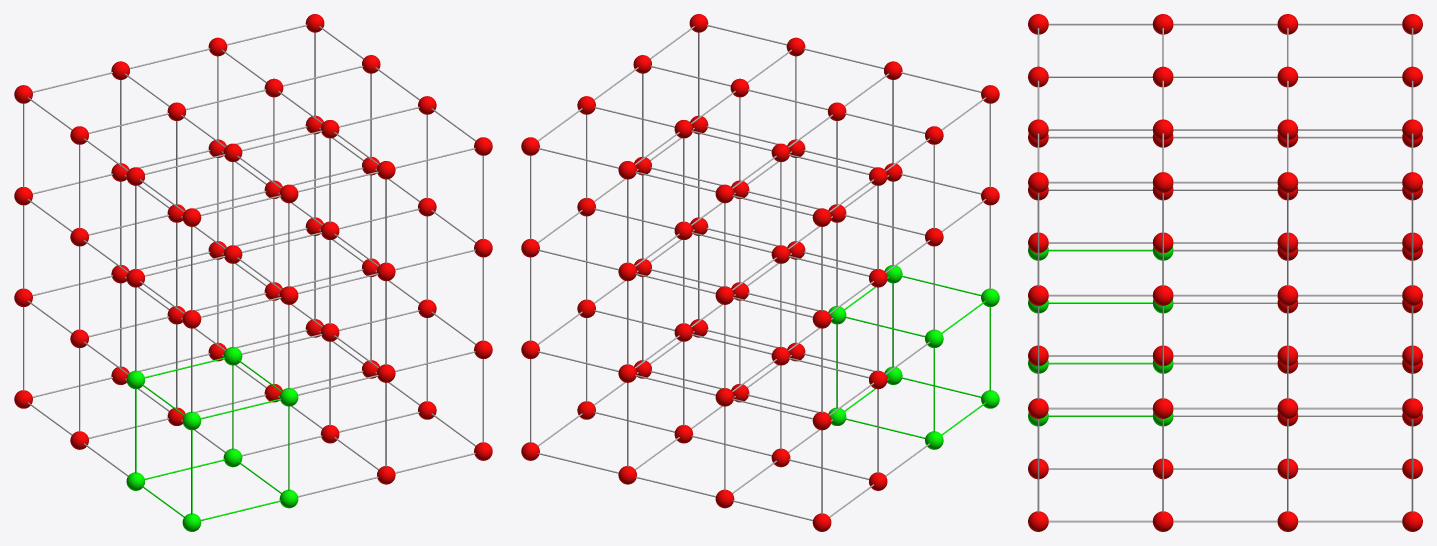
The picture shows the model from 3 angles, left to right: view 1: azimuth 30°, elevation 25°; view 2: azimuth 150°, elevation 25°; view 3: azimuth 270°, elevation 25°; orthographic projection. The views are drawn at different scales.
Parts seen in each view (by area): view 1: world; view 2: world; view 3: world.
Part boxes in pixels (<box>): world: <box>14,14,492,531</box>; world: <box>521,14,999,531</box>; world: <box>1028,14,1422,531</box>.
Bounding box in the file's own units: 14.25 × 14.25 × 14.25.
